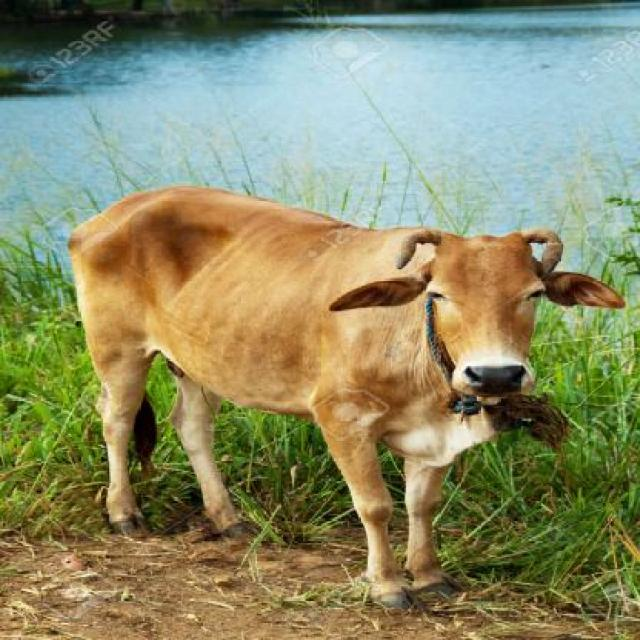Cow: (59, 183, 622, 611)
